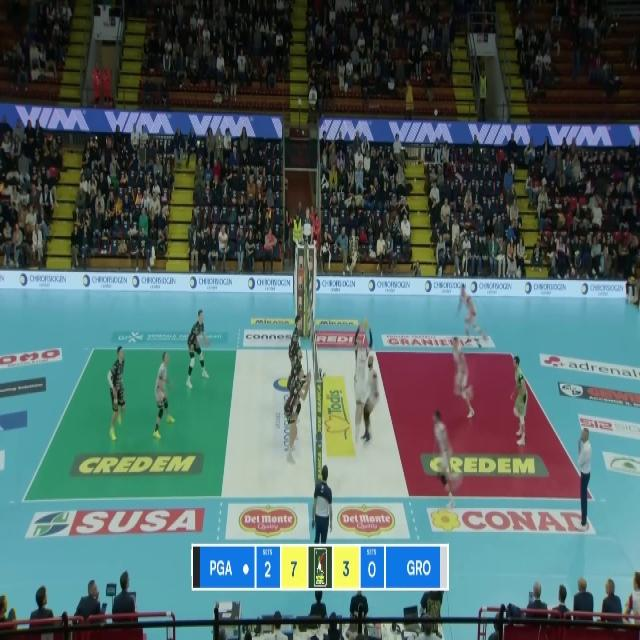volleyball court: (21, 349, 592, 499)
